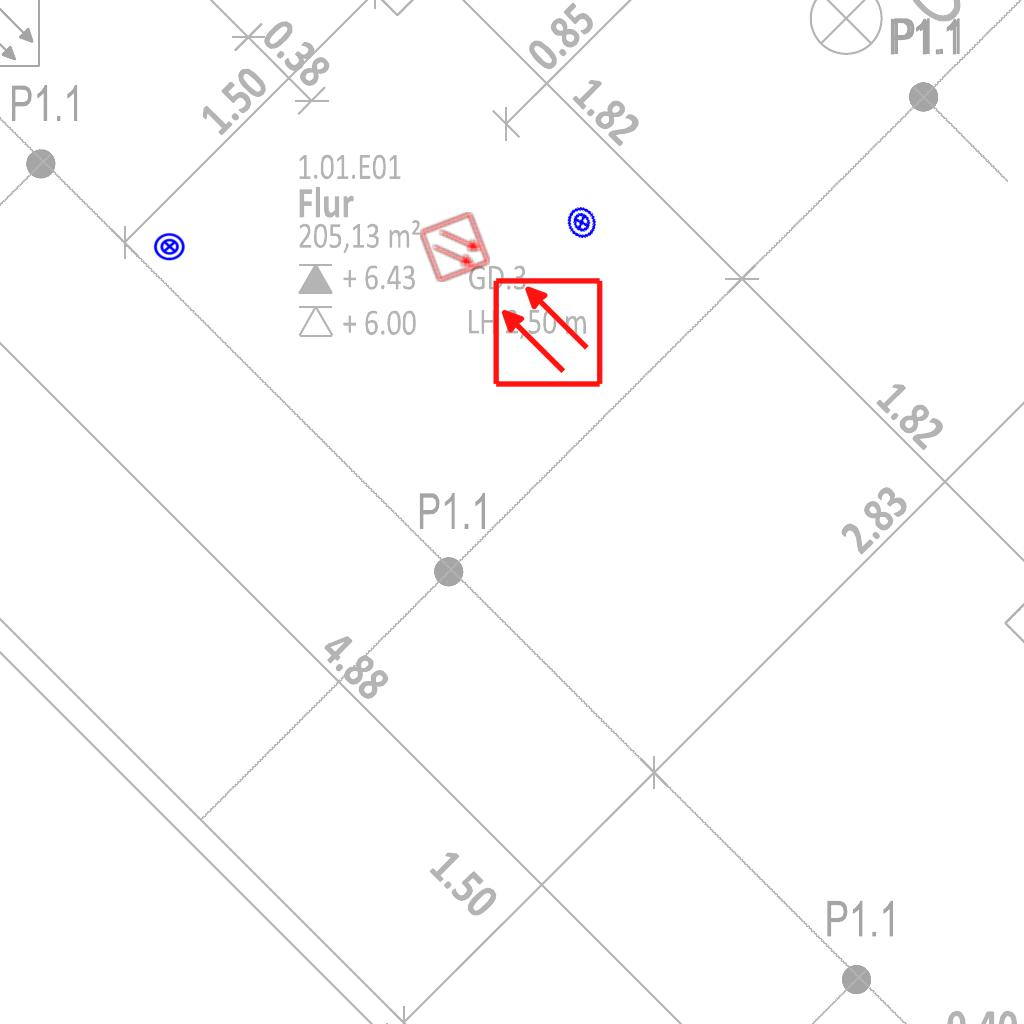RMO_Rauchmelder_optischer: (491, 276, 604, 389), (418, 210, 492, 284)
Taster_beleuchtet: (560, 201, 603, 244), (153, 230, 186, 263)
